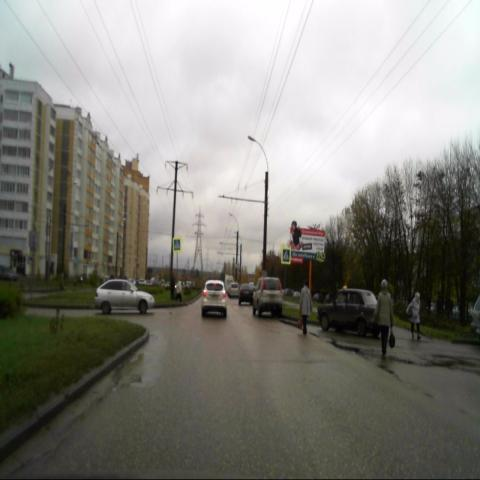5_19_1: (281, 246, 290, 265), (172, 237, 182, 252)
